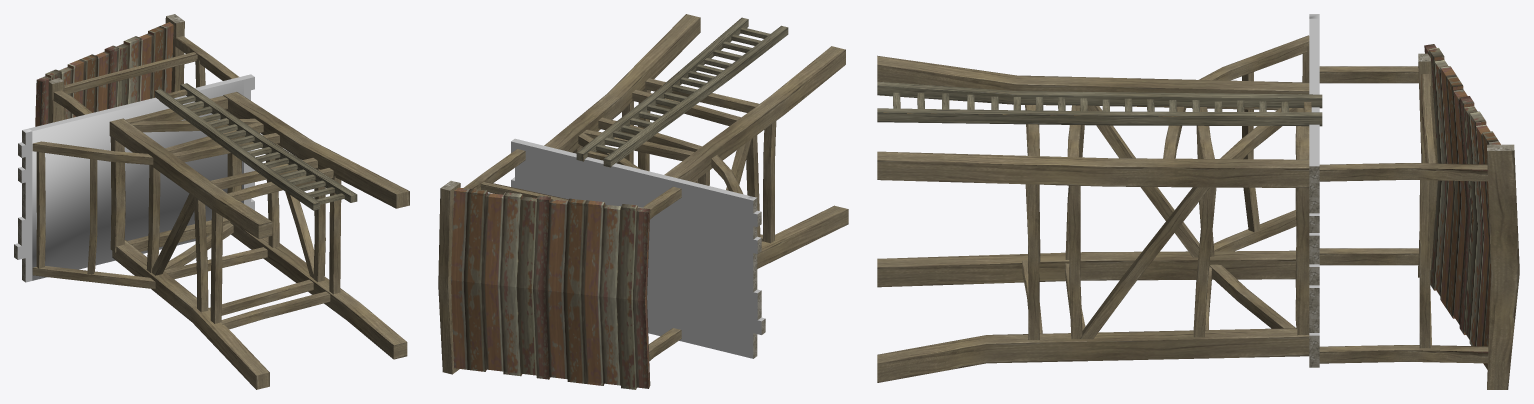
File: Watch_Tower_B.fbx
3 views of the same model, side by side, from view 1: azimuth 30°, elevation 25°; view 2: azimuth 150°, elevation 25°; view 3: azimuth 270°, elevation 25° (orthographic). The views are drawn at different scales.
Visible parts, largest first — view 1: Watch_Tower_B; view 2: Watch_Tower_B; view 3: Watch_Tower_B.
Boxes of the visible parts, x1=… form: Watch_Tower_B: x1=14, y1=14, x2=409, y2=389; Watch_Tower_B: x1=438, y1=14, x2=848, y2=389; Watch_Tower_B: x1=877, y1=14, x2=1519, y2=389.
Bounding box in the file's own units: 9.53 × 6.79 × 16.14.
